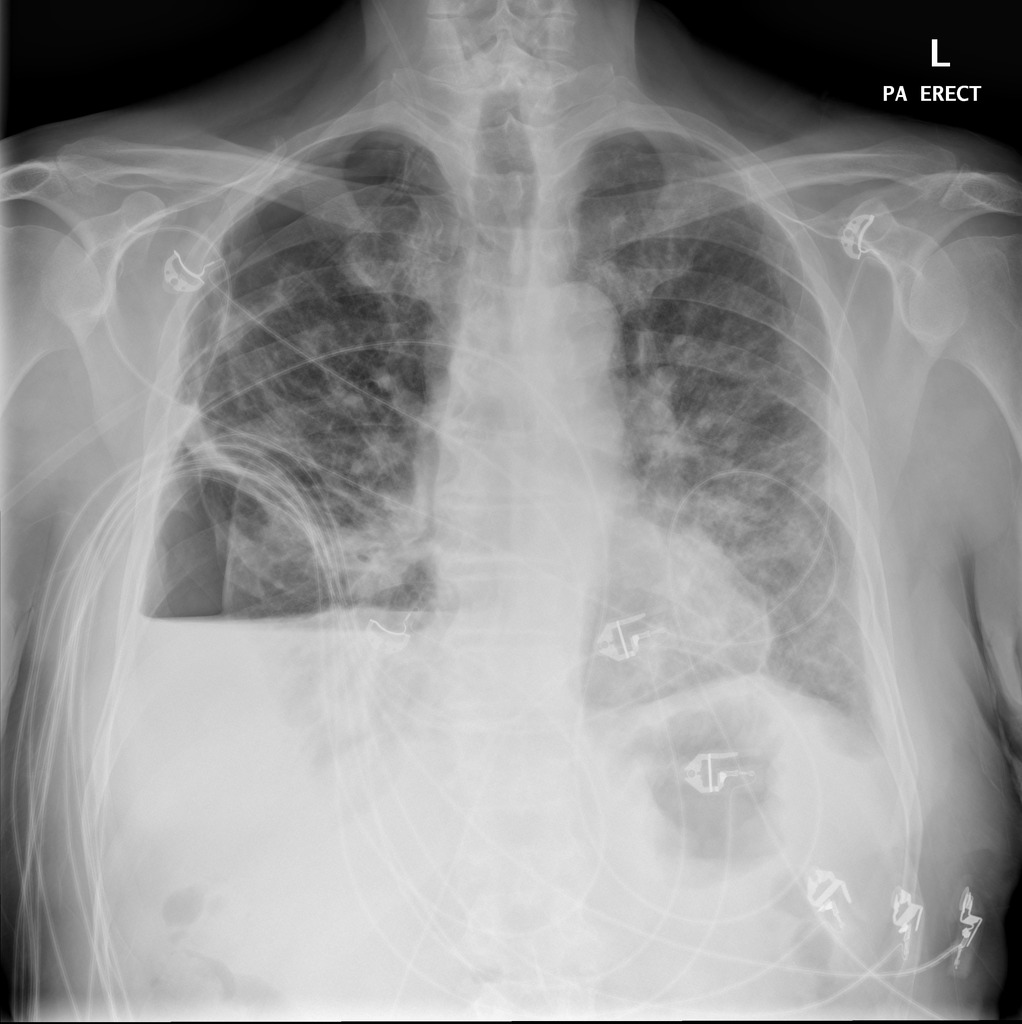cancer: (588, 203, 855, 797), (175, 118, 453, 682)
